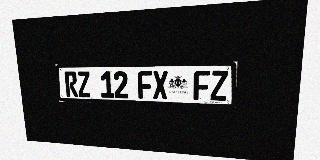1: (100, 71, 114, 98)
2: (114, 71, 128, 98)
F: (193, 71, 210, 100), (138, 71, 153, 99)
R: (64, 71, 78, 97)
X: (153, 71, 168, 99)
Z: (210, 70, 228, 101), (77, 71, 91, 97)
